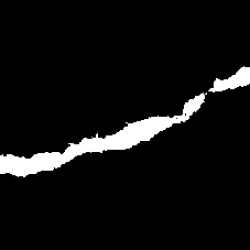crack: (4, 67, 245, 176)
